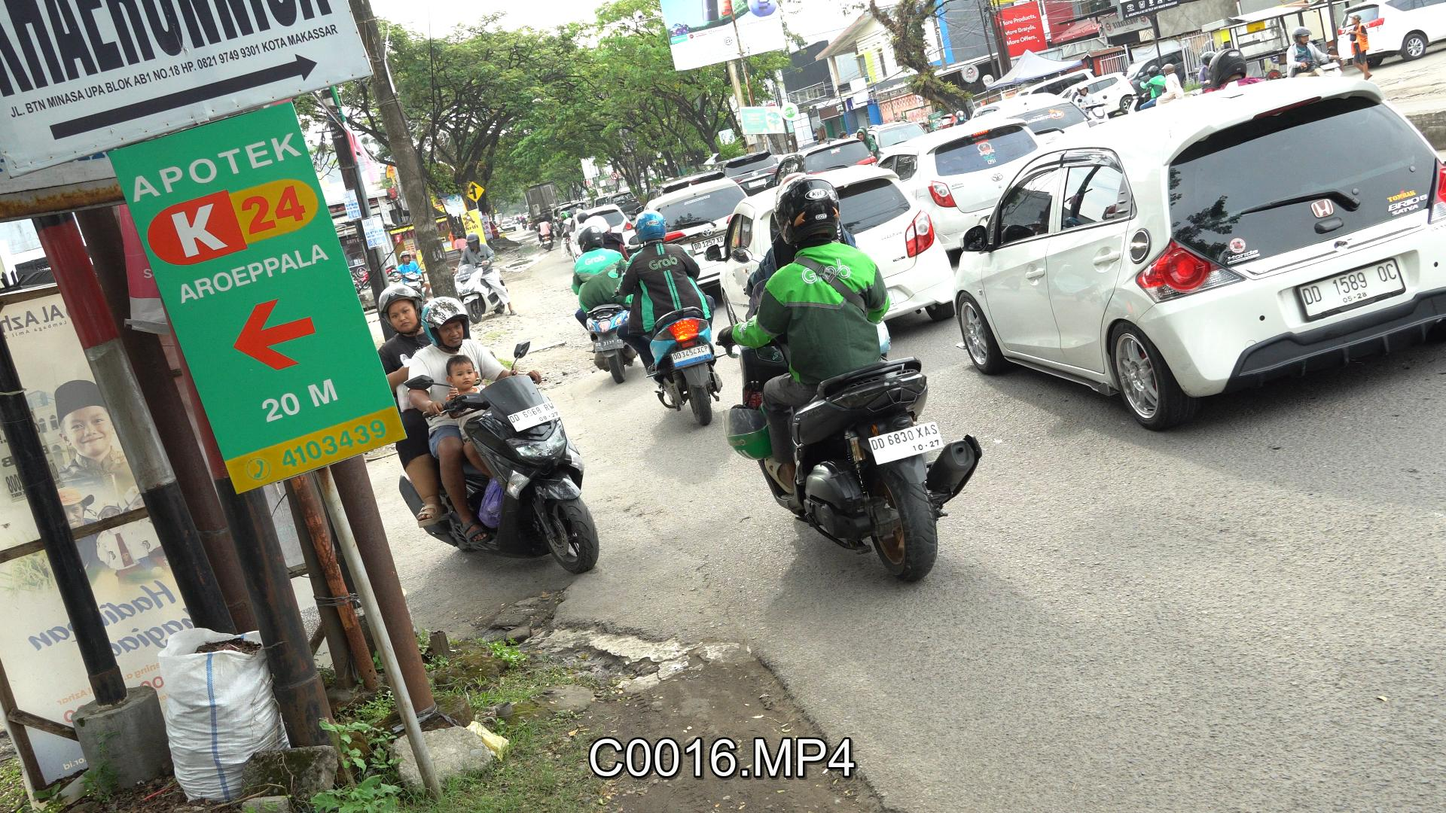number-plate: (507, 396, 560, 432)
